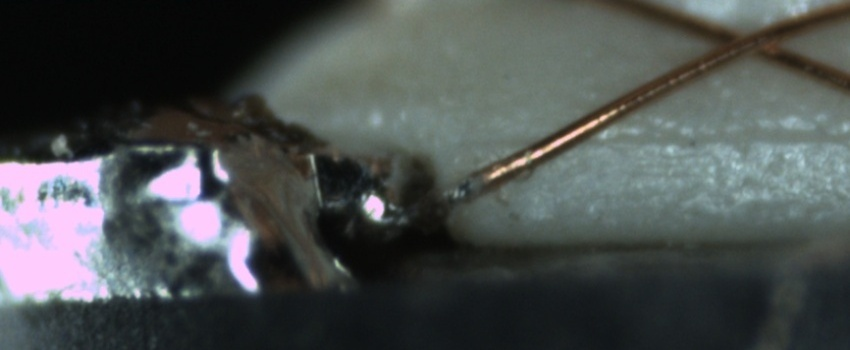CL: (700, 14, 795, 69)
DL: (488, 104, 849, 168)
TS: (415, 172, 484, 222)
TTCW: (421, 155, 520, 215)
